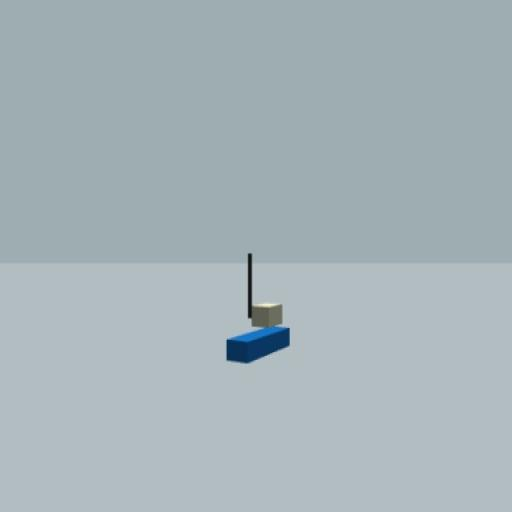fishing_boat: (223, 253, 293, 364)
